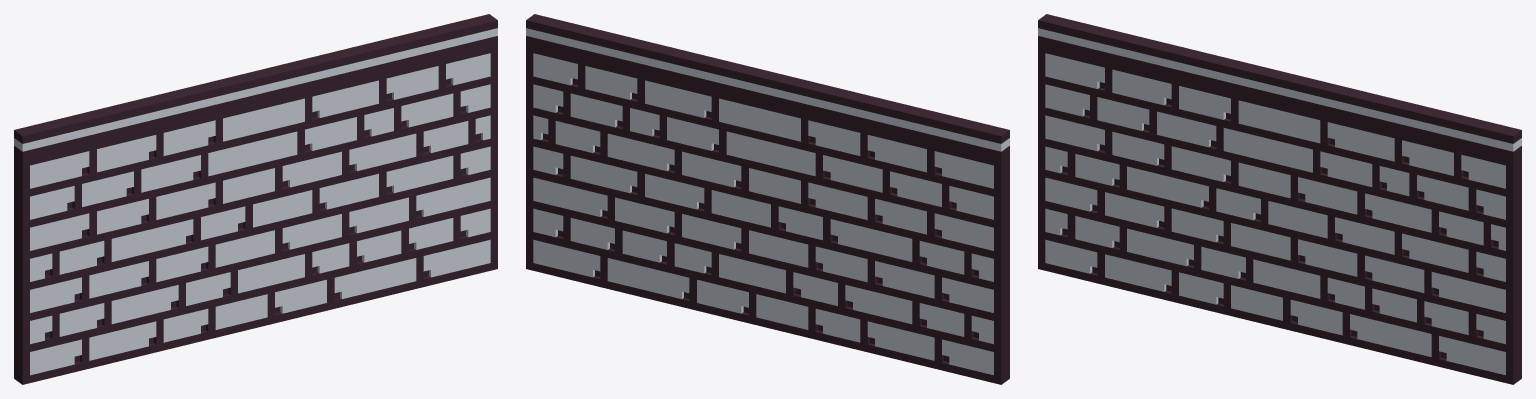
The model's file is Stone Brick Wall (64x32x4).fbx.
3 renders of one model, left to right at view 1: azimuth 30°, elevation 25°; view 2: azimuth 150°, elevation 25°; view 3: azimuth 330°, elevation 25°, orthographic.
Visible parts, largest first — view 1: generated; view 2: generated; view 3: generated.
Part boxes in pixels (x1,y1,x2,y2): generated: (14,14,497,384); generated: (526,14,1009,384); generated: (1038,14,1521,384).
Size of the model in its own units: 2560 by 1280 by 80.
